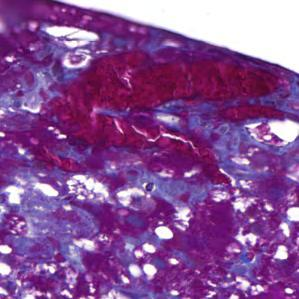ballooning: (43, 24, 100, 71), (247, 115, 294, 148)
